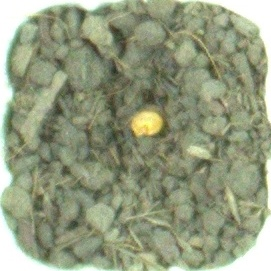pepper seed: (44, 39, 211, 179)
